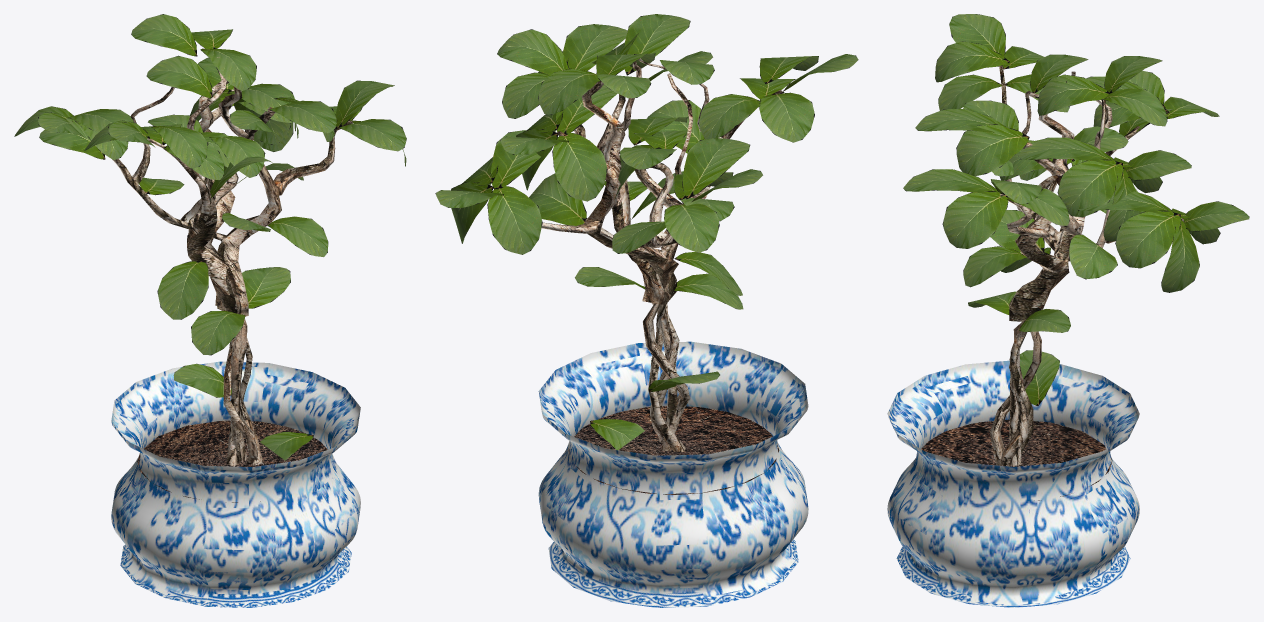
The model's file is wk9_trees_and_plants.glb.
3 renders of one model, left to right at view 1: azimuth 30°, elevation 25°; view 2: azimuth 150°, elevation 25°; view 3: azimuth 270°, elevation 25°, orthographic. The views are drawn at different scales.
Visible parts, largest first — view 1: Object_3, Object_5, Object_4, Object_2; view 2: Object_3, Object_5, Object_4, Object_2; view 3: Object_5, Object_3, Object_4, Object_2.
Part boxes in pixels (x1,y1,x2,y2): Object_3: [111, 361, 360, 607]; Object_5: [14, 14, 406, 460]; Object_4: [72, 57, 352, 466]; Object_2: [137, 420, 327, 502]; Object_3: [538, 341, 808, 607]; Object_5: [435, 14, 858, 450]; Object_4: [541, 54, 784, 451]; Object_2: [568, 406, 779, 494]; Object_5: [903, 14, 1249, 405]; Object_3: [887, 360, 1139, 607]; Object_4: [989, 65, 1183, 466]; Object_2: [921, 419, 1112, 500].
Size of the model in its own units: 12.82 by 19.91 by 13.23.
4 materials, 4 textured.
